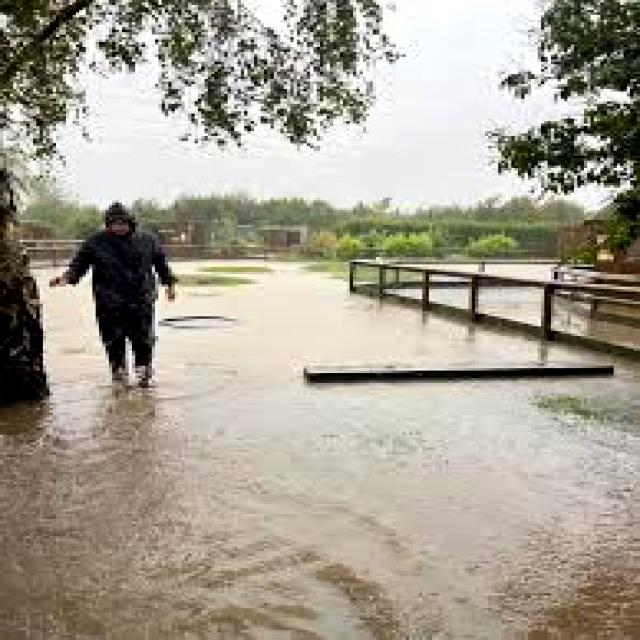civilian: (50, 185, 203, 392)
